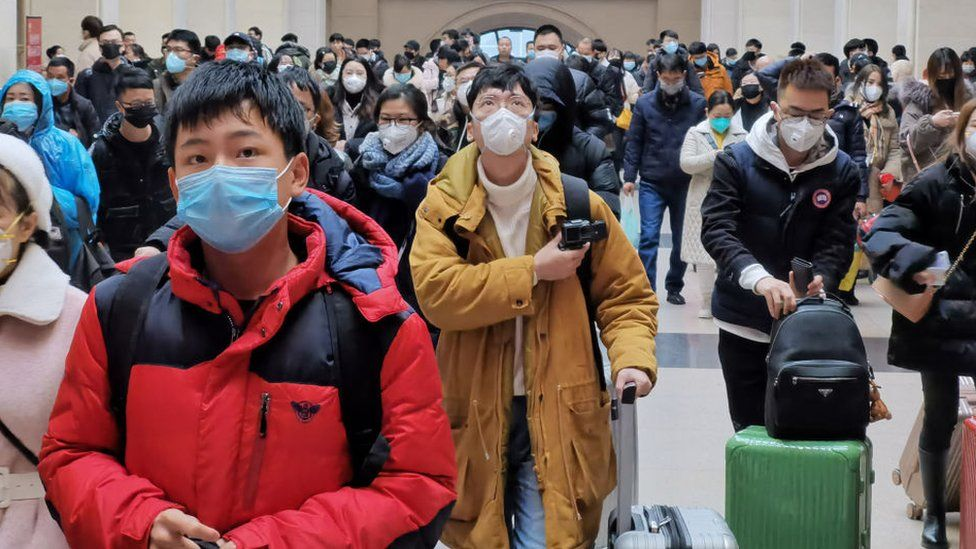Head: (165, 59, 306, 254), (463, 63, 540, 157), (769, 63, 835, 153), (376, 84, 427, 154), (1, 69, 44, 133), (113, 67, 157, 129), (163, 28, 201, 73), (702, 90, 734, 135), (532, 25, 563, 69), (338, 54, 371, 93), (656, 54, 687, 95), (44, 57, 74, 98), (97, 23, 125, 61), (856, 64, 883, 102), (223, 31, 254, 63), (740, 69, 764, 100), (391, 52, 414, 81), (313, 46, 336, 73), (441, 63, 459, 94), (687, 41, 708, 65), (659, 28, 676, 53), (622, 51, 636, 71)
